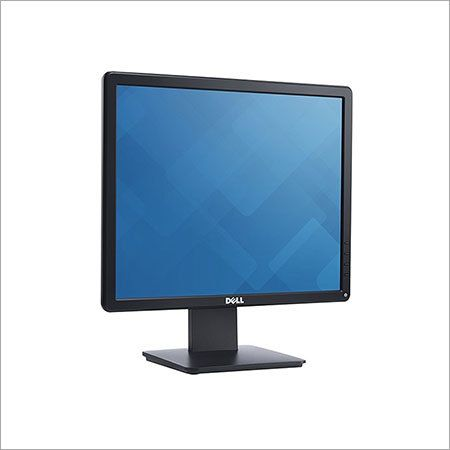dell-monitor-D1918H: (87, 81, 359, 381)
